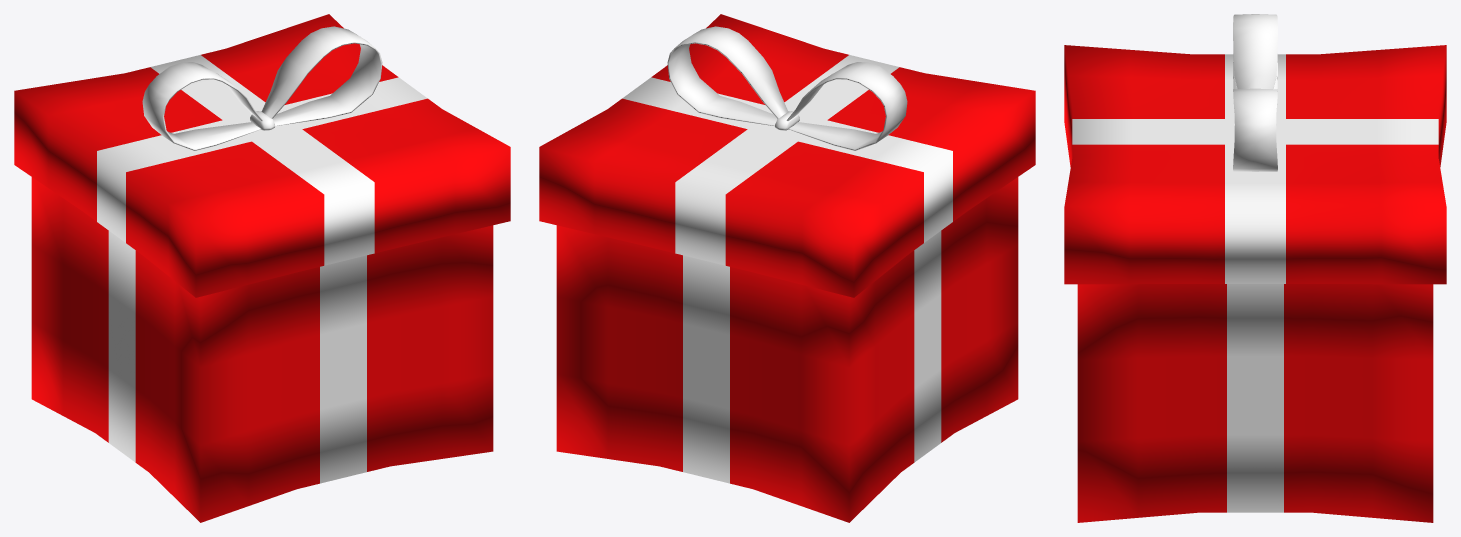
The model's file is small_gift_done.fbx.
The picture shows the model from 3 angles, left to right: view 1: azimuth 30°, elevation 25°; view 2: azimuth 150°, elevation 25°; view 3: azimuth 270°, elevation 25°; orthographic projection. The views are drawn at different scales.
Visible parts, largest first — view 1: bow bow; view 2: bow bow; view 3: bow bow.
Part boxes in pixels (x1,y1,x2,y2): bow bow: [14, 14, 510, 522]; bow bow: [539, 14, 1035, 522]; bow bow: [1064, 14, 1446, 522].
Bounding box in the file's own units: 215 × 243 × 215.
